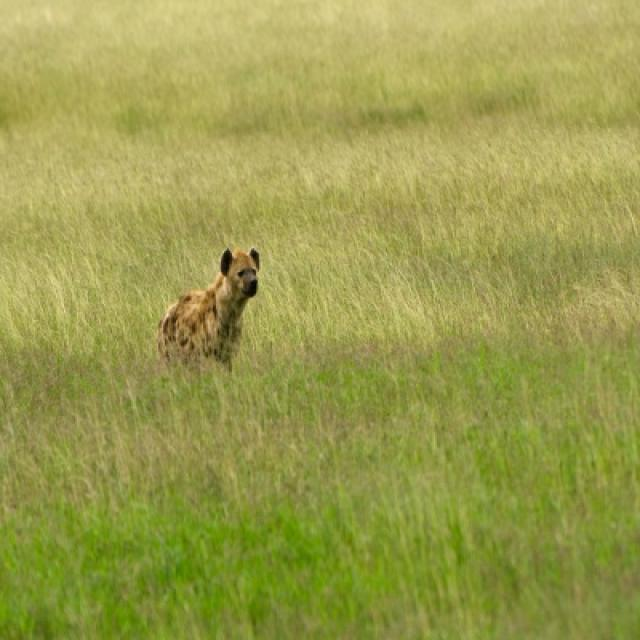hyena: (157, 251, 259, 371)
